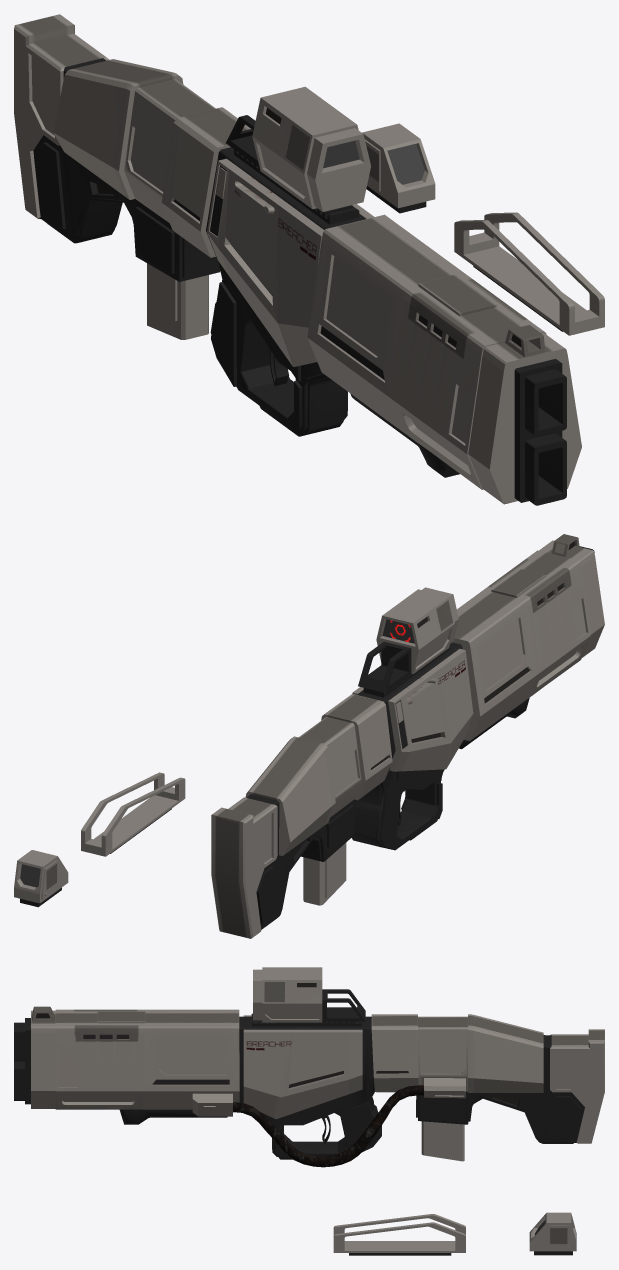
The model's file is breacher_tactical_shotgun.glb.
The picture shows the model from 3 angles, top to bottom: view 1: azimuth 30°, elevation 25°; view 2: azimuth 150°, elevation 25°; view 3: azimuth 270°, elevation 25°; orthographic projection. The views are drawn at different scales.
Parts seen in each view (by area): view 1: Body1, TacticalSight, CarryHandle, HoloSight, Cartridge; view 2: Body1, TacticalSight, CarryHandle, HoloSight, Cartridge; view 3: Body1, TacticalSight, CarryHandle, Tube, HoloSight, Cartridge.
Boxes of the visible parts, x1,y1,x2,y2 form: Body1: (14, 14, 581, 505); TacticalSight: (226, 86, 370, 211); CarryHandle: (454, 212, 604, 335); HoloSight: (362, 123, 435, 213); Cartridge: (147, 263, 208, 339); Body1: (211, 534, 604, 938); TacticalSight: (358, 587, 458, 692); CarryHandle: (81, 772, 185, 856); HoloSight: (14, 850, 68, 907); Cartridge: (303, 843, 346, 905); Body1: (14, 1006, 604, 1159); TacticalSight: (253, 967, 365, 1023); CarryHandle: (333, 1214, 465, 1255); Tube: (233, 1085, 423, 1167); HoloSight: (529, 1212, 576, 1255); Cartridge: (421, 1121, 464, 1161).
Bounding box in the file's own units: 0.3779 × 0.312 × 0.8784.
Materials: 5 (5 with a texture image).
